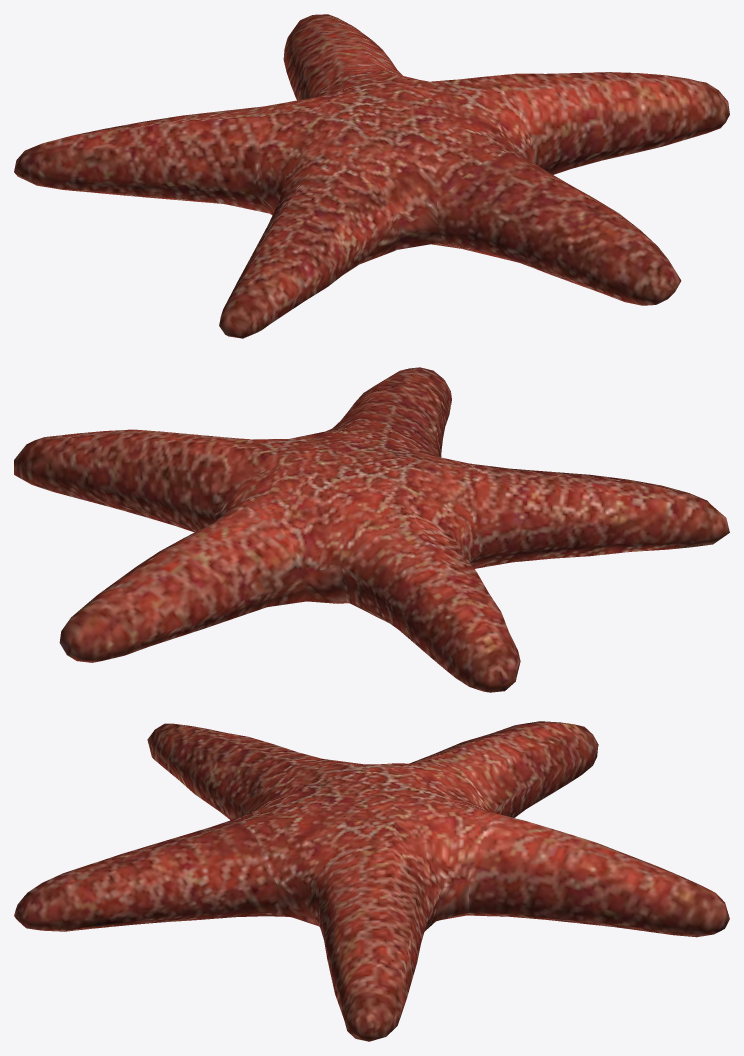
The model's file is starfish.glb.
3 views of the same model, one above another, from view 1: azimuth 30°, elevation 25°; view 2: azimuth 150°, elevation 25°; view 3: azimuth 270°, elevation 25° (orthographic).
Size of the model in its own units: 0.2063 by 0.0348 by 0.2133.
1 material, 1 textured.
